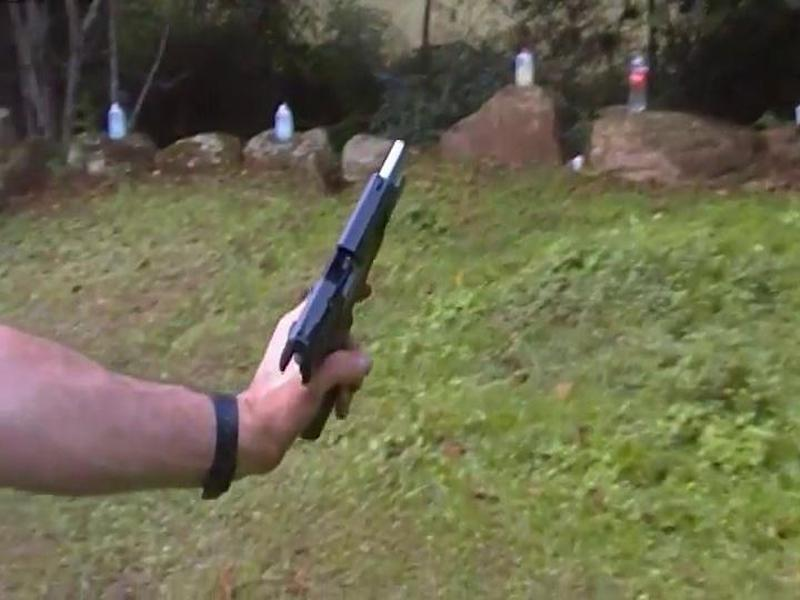Pistola: (250, 166, 424, 444)
